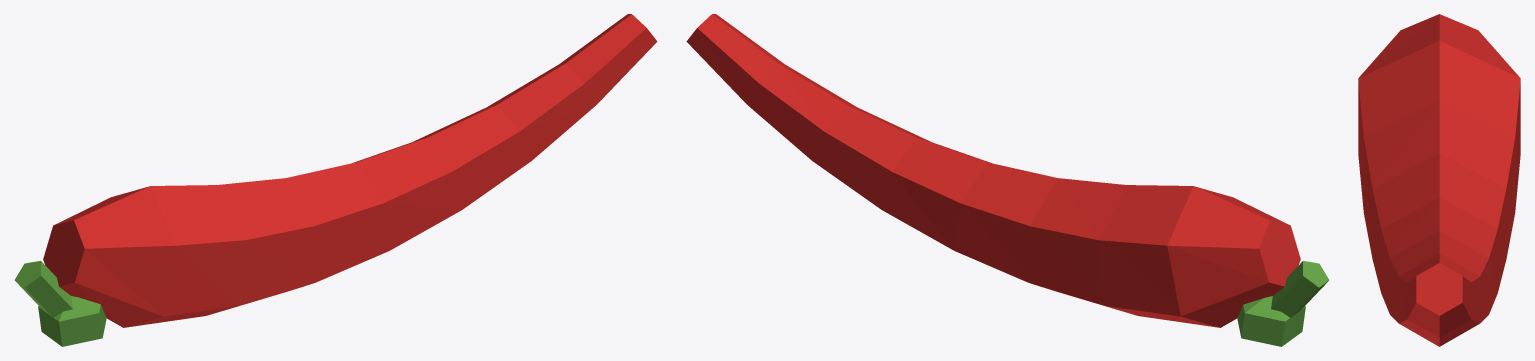
File: Food_Chili.obj
3 views of the same model, side by side, from view 1: azimuth 30°, elevation 25°; view 2: azimuth 150°, elevation 25°; view 3: azimuth 270°, elevation 25° (orthographic). The views are drawn at different scales.
Size of the model in its own units: 2.51 by 0.7496 by 0.4532.
